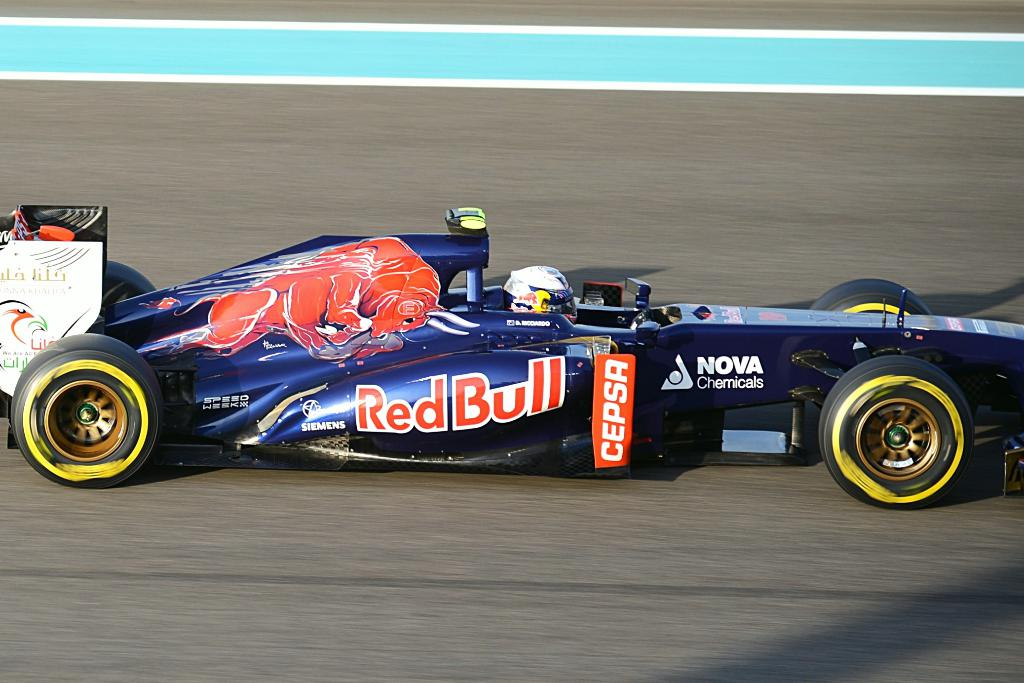Car: (0, 204, 1024, 510)
